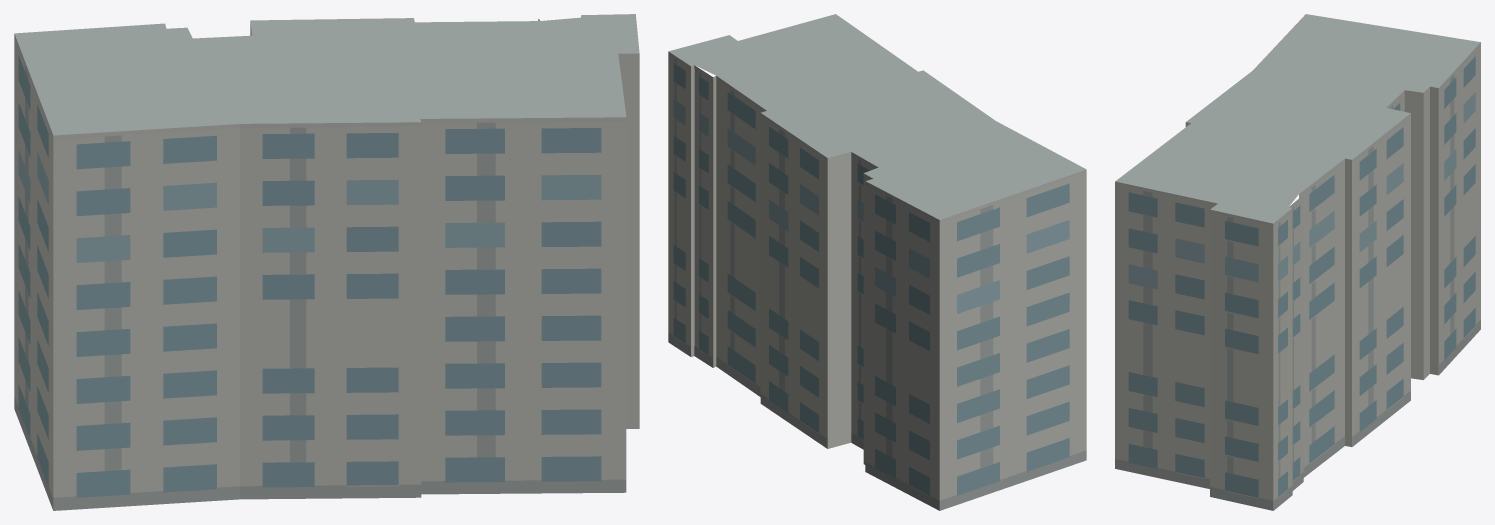
File: survey-upis-32870609.glb
3 views of the same model, side by side, from view 1: azimuth 30°, elevation 25°; view 2: azimuth 150°, elevation 25°; view 3: azimuth 270°, elevation 25° (orthographic). The views are drawn at different scales.
Visible parts, largest first — view 1: survey-upis-32870609.tmp; view 2: survey-upis-32870609.tmp; view 3: survey-upis-32870609.tmp.
Part boxes in pixels (left/top/right/bottom): survey-upis-32870609.tmp: left=14, top=14, right=639, bottom=510; survey-upis-32870609.tmp: left=668, top=14, right=1086, bottom=510; survey-upis-32870609.tmp: left=1115, top=14, right=1480, bottom=510.
Size of the model in its own units: 33.8 by 21.6 by 24.93.
